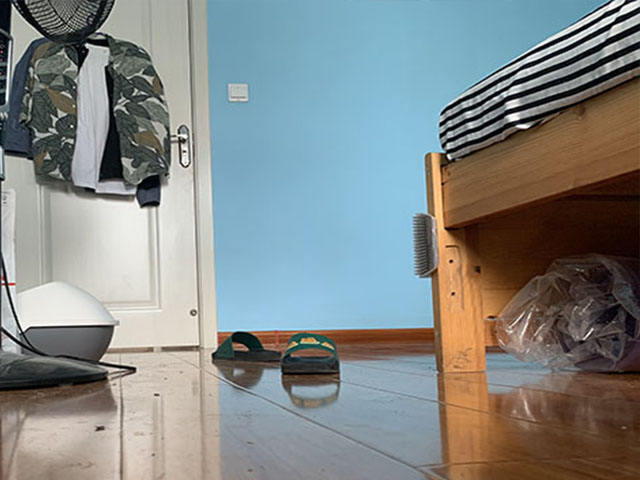bed: (424, 1, 640, 375)
slippers: (276, 333, 345, 381), (209, 325, 279, 364)
wire: (1, 324, 137, 378)
